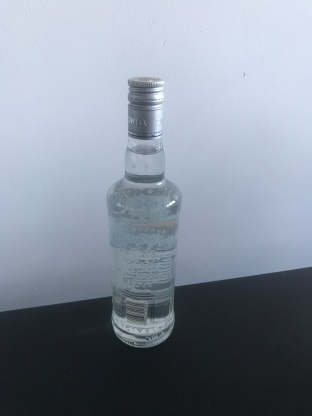nakretka: (125, 75, 166, 142)
